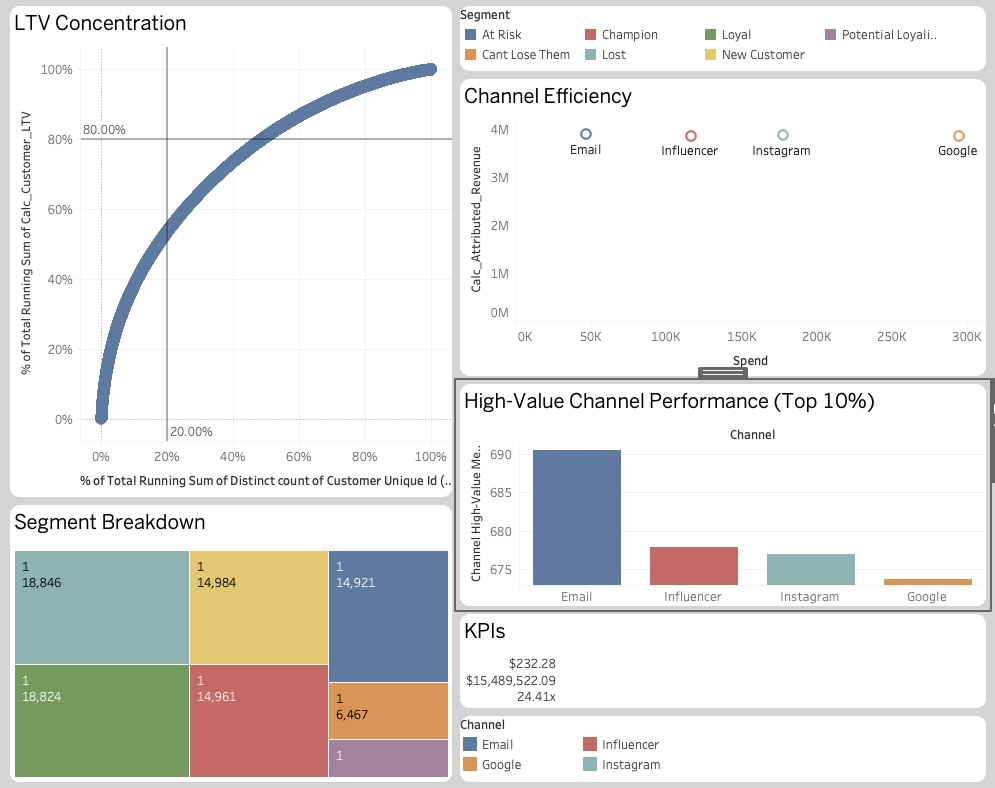

Layout of this report page (visuals, bound fields, positions):
{"tool":"tableau","page":{"name":"Dashboard 1","canvas":[1000,800],"ordinal":0},"visuals":[{"type":"worksheet","title":"Sheet 5","mark":"Automatic","box":[8,8,450,499]},{"type":"legend","title":"Sheet 3","param":"[federated.06dno9k1mh7nw71dhuvcp0s9zele].[none:segment:nk]","box":[458,8,534,73]},{"type":"worksheet","title":"Sheet 2","mark":"Automatic","rows":["Calculation_0372736270090244"],"cols":["spend"],"box":[458,81,534,305]},{"type":"worksheet","title":"Sheet 6","mark":"Automatic","rows":["Calculation_0372736413650959"],"cols":["channel"],"box":[458,386,534,230]},{"type":"worksheet","title":"Sheet 3","mark":"Automatic","box":[8,507,450,285]},{"type":"worksheet","title":"Sheet 1","mark":"Automatic","box":[458,616,534,102]},{"type":"legend","title":"Sheet 2","param":"[federated.06dno9k1mh7nw71dhuvcp0s9zele].[none:channel:nk]","box":[458,718,534,74]}]}

Visuals, with their boxes in screenshot pixels (x1, y1, x2, y2), scaled from the page's 1000x800 canvas onto the 995x788 screenshot:
"Sheet 5" worksheet: bbox=[8, 8, 456, 499]
"Sheet 3" legend: bbox=[456, 8, 987, 80]
"Sheet 2" worksheet: bbox=[456, 80, 987, 380]
"Sheet 6" worksheet: bbox=[456, 380, 987, 607]
"Sheet 3" worksheet: bbox=[8, 499, 456, 780]
"Sheet 1" worksheet: bbox=[456, 607, 987, 707]
"Sheet 2" legend: bbox=[456, 707, 987, 780]
